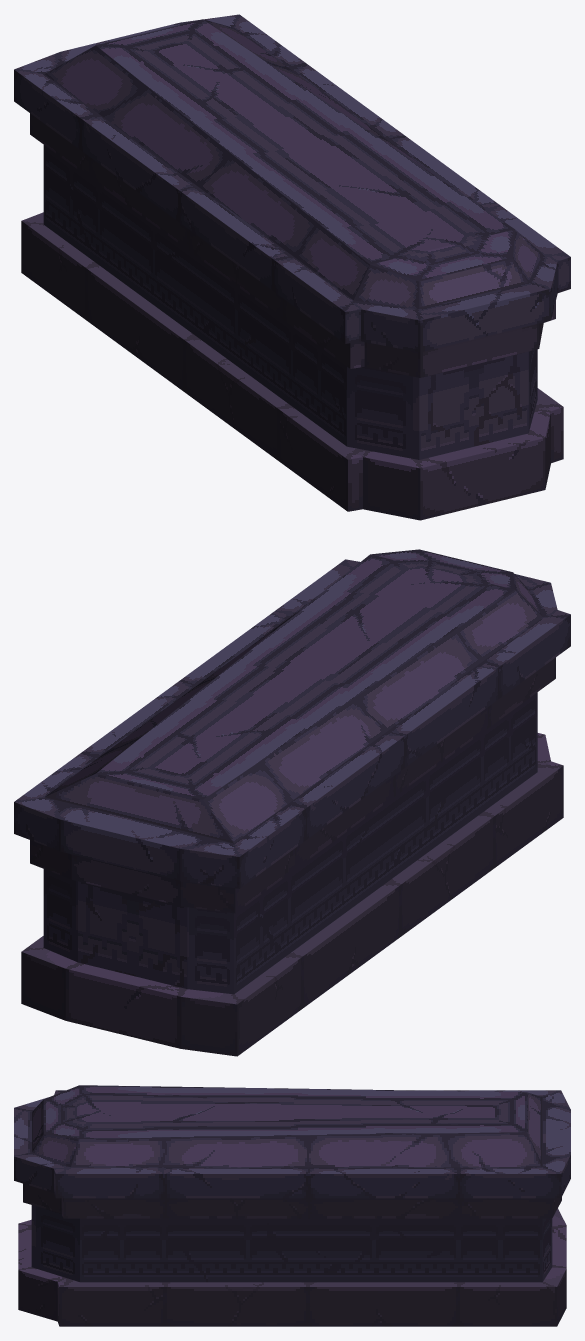
The model's file is Grob.gltf.
3 renders of one model, top to bottom at view 1: azimuth 30°, elevation 25°; view 2: azimuth 150°, elevation 25°; view 3: azimuth 270°, elevation 25°, orthographic. The views are drawn at different scales.
Parts seen in each view (by area): view 1: Krishka, Grob; view 2: Krishka, Grob; view 3: Grob, Krishka.
Part boxes in pixels (x1,y1,x2,y2): Krishka: (14, 14, 570, 352); Grob: (21, 113, 563, 520); Krishka: (14, 549, 570, 888); Grob: (21, 657, 563, 1056); Grob: (18, 1183, 566, 1326); Krishka: (14, 1085, 570, 1198).
Size of the model in its own units: 1.46 by 1.42 by 4.11.
1 material, 1 textured.
